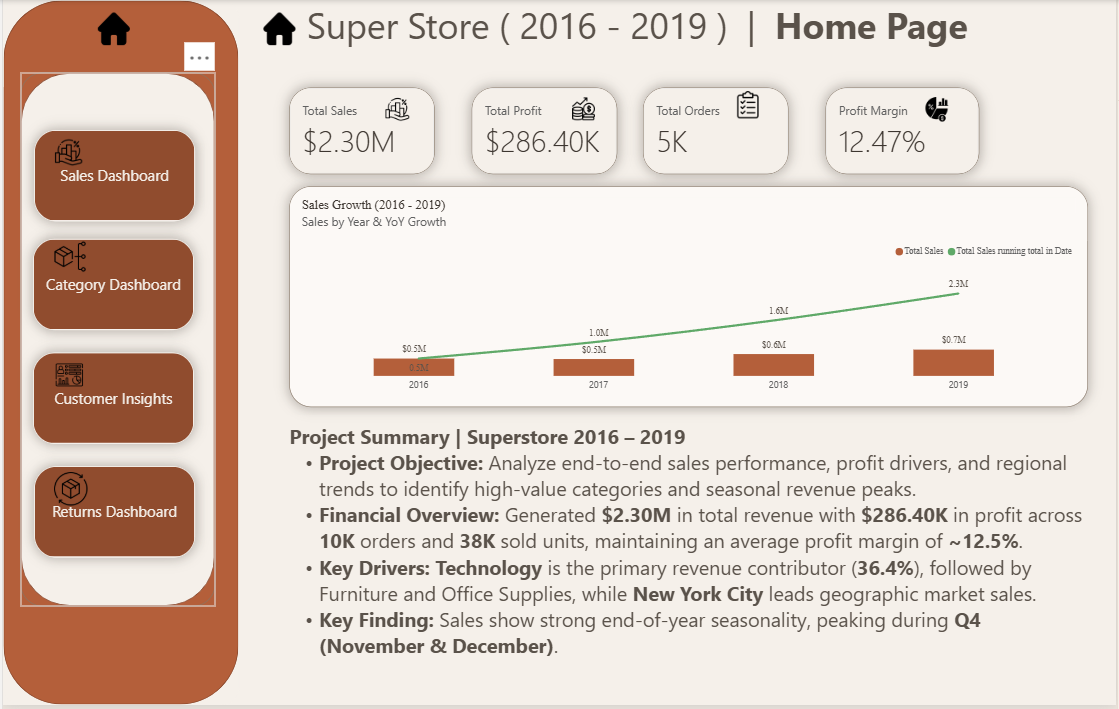

The dashboard page shown, as its layout file describes it:
{"tool":"powerbi","page":{"name":"Home Page","canvas":[1500,950],"ordinal":0},"visuals":[{"type":"shape","box":[0,0,318.4,950.3],"z":0},{"type":"textbox","box":[409.1,0,905.8,97.1],"z":1000},{"type":"image","box":[344.8,16.4,54.5,43.6],"z":2000},{"type":"shape","box":[23.9,97.1,262.7,719.5],"z":3000},{"type":"image","box":[122.6,16.4,53.1,43.6],"z":4000},{"type":"actionButton","box":[42.2,175.8,217.2,123.1],"z":5000},{"type":"actionButton","box":[40.9,475.6,217.2,123.1],"z":6000},{"type":"actionButton","box":[40.9,321.6,217.2,123.1],"z":7000},{"type":"cardVisual","fields":{"Data":["Orders.Total Sales"]},"box":[385.6,117.2,196.2,117.2],"z":8000},{"type":"cardVisual","fields":{"Data":["Orders.Total Profit"]},"box":[630.9,117.2,196.2,117.2],"z":9000},{"type":"cardVisual","fields":{"Data":["Orders.Profit Margin"]},"box":[1107.8,117.2,207.1,117.2],"z":10000},{"type":"cardVisual","fields":{"Data":["Orders.Total Order"]},"box":[862.6,117.2,196.2,117.2],"z":11000},{"type":"image","box":[764.1,117.8,35,57.3],"z":12000},{"type":"image","box":[515.8,128.9,31.8,35],"z":13000},{"type":"image","box":[985.3,117.8,36.6,46.2],"z":14000},{"type":"image","box":[1228.9,128.9,57.3,35],"z":15000},{"type":"textbox","box":[385.2,569.9,1076.1,361.3],"z":16000},{"type":"lineClusteredColumnComboChart","title":"Sales Growth (2016 - 2019)","fields":{"Category":["Calendar.Year"],"Y":["Orders.Total Sales"],"Y2":["Orders.Total Sales running total in Date"]},"box":[385.2,251.5,1076.1,297.7],"z":17000},{"type":"image","box":[56.3,186.5,65.9,37],"z":18000},{"type":"image","box":[62.7,321.6,56.3,48.2],"z":19000},{"type":"image","box":[61.1,487.2,57.9,37],"z":20000},{"type":"actionButton","box":[41.8,628.8,217.2,123.1],"z":21000},{"type":"image","box":[67.5,628.8,48.2,61.1],"z":22000}]}

Visuals, with their boxes in screenshot pixels (x1, y1, x2, y2), scaled from the page's 1500x950 canvas onto the 1119x709 screenshot:
shape: <bbox>0, 0, 238, 708</bbox>
textbox: <bbox>305, 0, 981, 72</bbox>
image: <bbox>257, 12, 298, 45</bbox>
shape: <bbox>18, 72, 214, 609</bbox>
image: <bbox>91, 12, 131, 45</bbox>
actionButton: <bbox>31, 131, 194, 223</bbox>
actionButton: <bbox>31, 355, 193, 447</bbox>
actionButton: <bbox>31, 240, 193, 332</bbox>
cardVisual - Orders.Total Sales: <bbox>288, 87, 434, 175</bbox>
cardVisual - Orders.Total Profit: <bbox>471, 87, 617, 175</bbox>
cardVisual - Orders.Profit Margin: <bbox>826, 87, 981, 175</bbox>
cardVisual - Orders.Total Order: <bbox>643, 87, 790, 175</bbox>
image: <bbox>570, 88, 596, 131</bbox>
image: <bbox>385, 96, 409, 122</bbox>
image: <bbox>735, 88, 762, 122</bbox>
image: <bbox>917, 96, 960, 122</bbox>
textbox: <bbox>287, 425, 1090, 695</bbox>
"Sales Growth (2016 - 2019)" lineClusteredColumnComboChart: <bbox>287, 188, 1090, 410</bbox>
image: <bbox>42, 139, 91, 167</bbox>
image: <bbox>47, 240, 89, 276</bbox>
image: <bbox>46, 364, 89, 391</bbox>
actionButton: <bbox>31, 469, 193, 561</bbox>
image: <bbox>50, 469, 86, 515</bbox>
